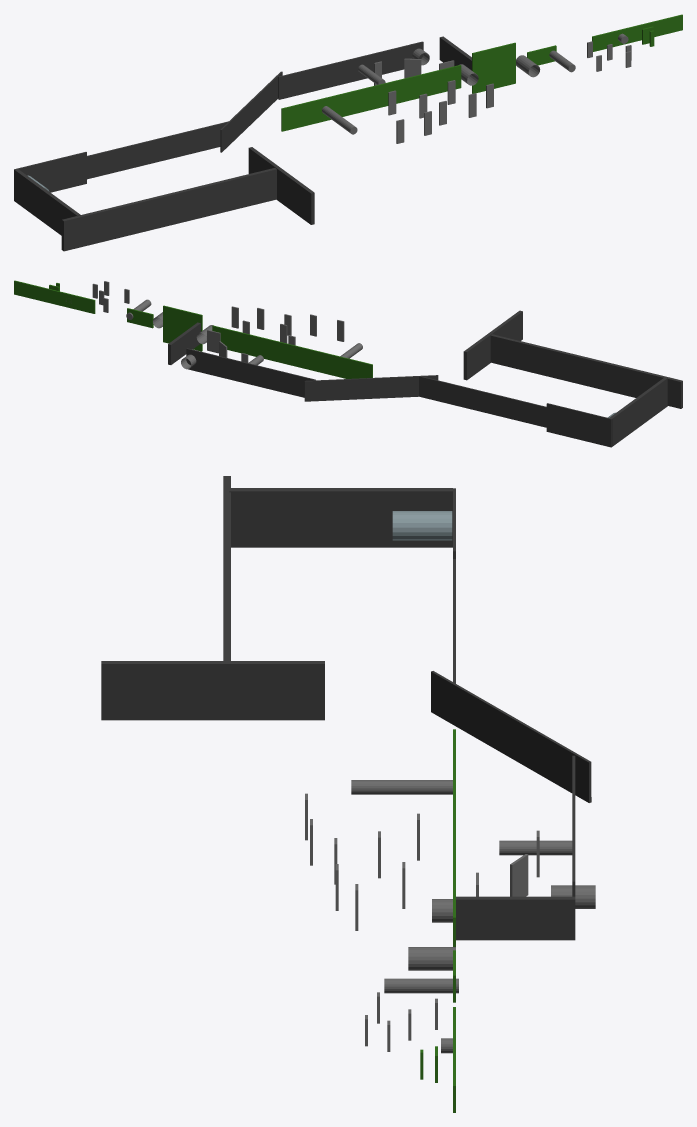
File: stage.obj
3 renders of one model, top to bottom at view 1: azimuth 30°, elevation 25°; view 2: azimuth 150°, elevation 25°; view 3: azimuth 270°, elevation 25°, orthographic. The views are drawn at different scales.
Parts seen in each view (by area): view 1: obj2, obj1; view 2: obj2, obj1; view 3: obj2.
Part boxes in pixels (x1,y1,x2,y2): obj2: (14,26,654,251); obj1: (607,14,682,47); obj2: (49,281,682,447); obj1: (14,280,81,310); obj2: (101,476,595,1082).
Size of the model in its own units: 9460 by 534 by 3315.
